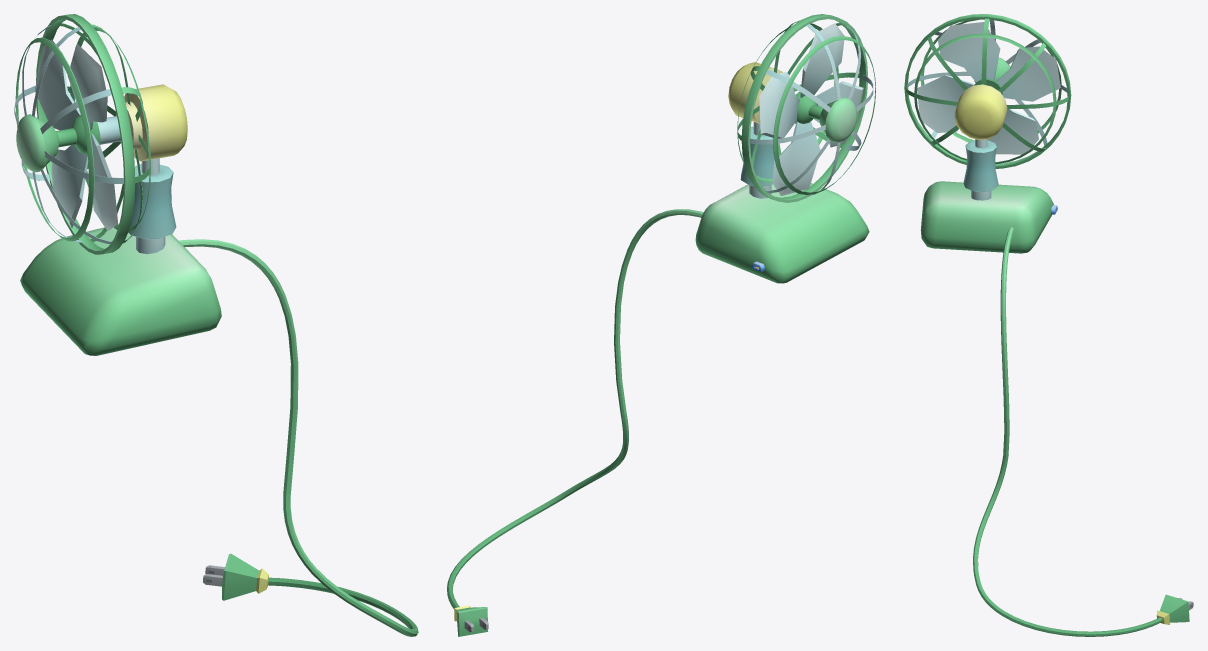
Rendered from electric fan.fbx.
3 renders of one model, left to right at view 1: azimuth 30°, elevation 25°; view 2: azimuth 150°, elevation 25°; view 3: azimuth 270°, elevation 25°, orthographic. The views are drawn at different scales.
Visible parts, largest first — view 1: electric_fan, wire_and_plug_fan, electric_fan_blades; view 2: electric_fan, electric_fan_blades, wire_and_plug_fan; view 3: electric_fan, electric_fan_blades, wire_and_plug_fan.
Boxes of the visible parts, x1=… form: electric_fan: x1=14, y1=14, x2=221, y2=355; wire_and_plug_fan: x1=179, y1=239, x2=418, y2=636; electric_fan_blades: x1=35, y1=39, x2=118, y2=230; electric_fan: x1=695, y1=14, x2=875, y2=283; electric_fan_blades: x1=759, y1=23, x2=863, y2=195; wire_and_plug_fan: x1=447, y1=209, x2=703, y2=636; electric_fan: x1=904, y1=14, x2=1071, y2=253; electric_fan_blades: x1=917, y1=22, x2=1060, y2=154; wire_and_plug_fan: x1=973, y1=227, x2=1193, y2=636.
Size of the model in its own units: 643 by 1063 by 548.
